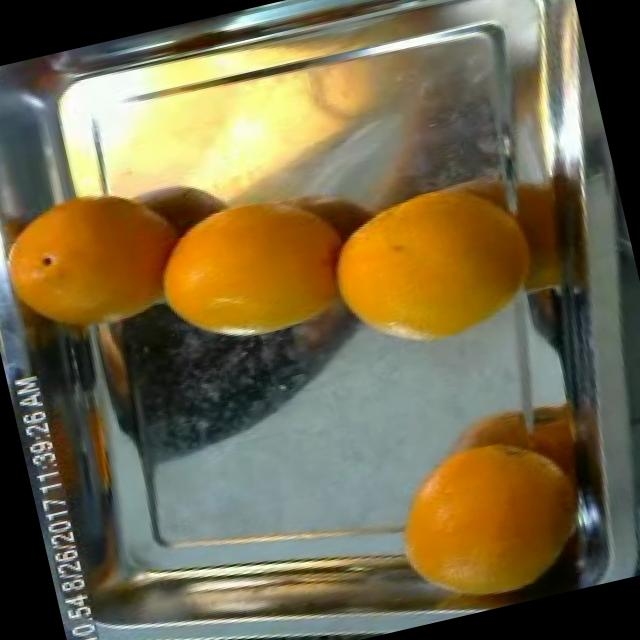Fruit: (132, 175, 362, 374), (0, 161, 210, 361)
